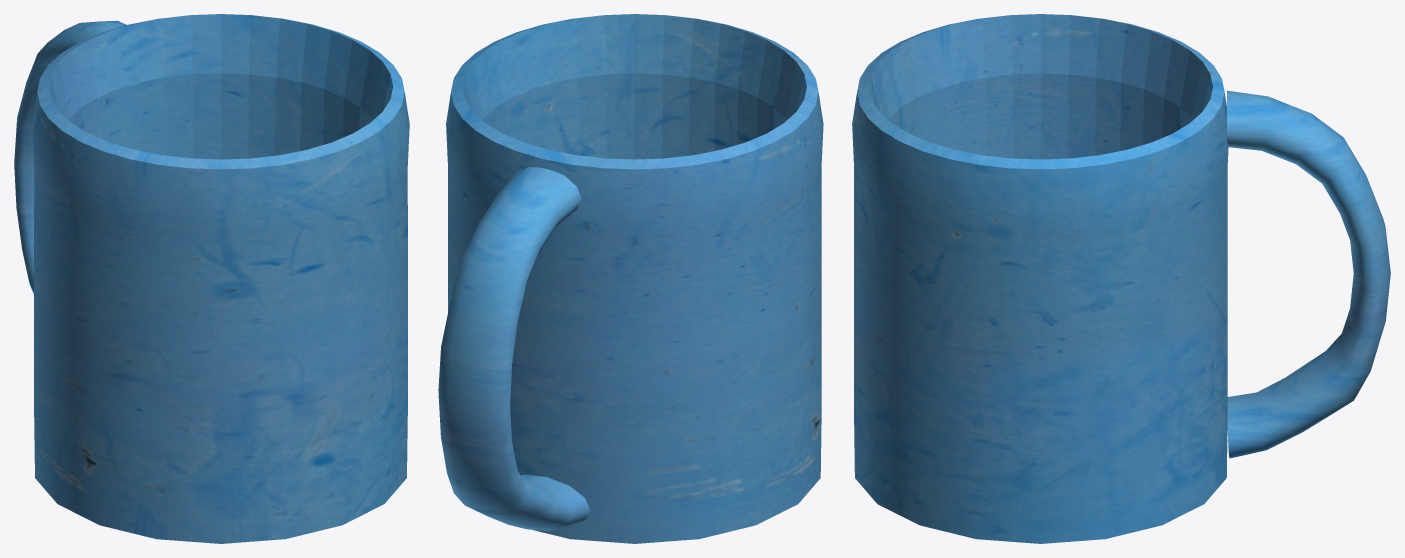
The model's file is Cup.FBX.
3 views of the same model, side by side, from view 1: azimuth 30°, elevation 25°; view 2: azimuth 150°, elevation 25°; view 3: azimuth 270°, elevation 25° (orthographic).
Parts seen in each view (by area): view 1: Torus001; view 2: Torus001; view 3: Torus001.
Boxes of the visible parts, x1,y1,x2,y2 form: Torus001: (14,14,409,543); Torus001: (438,14,823,543); Torus001: (852,14,1390,543).
Size of the model in its own units: 63.28 by 69.42 by 89.82.
1 material, 1 textured.
